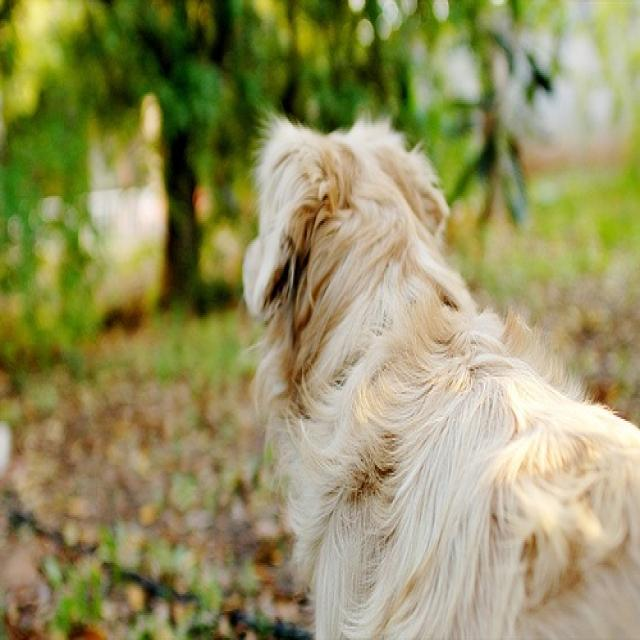dog: (236, 104, 638, 636)
